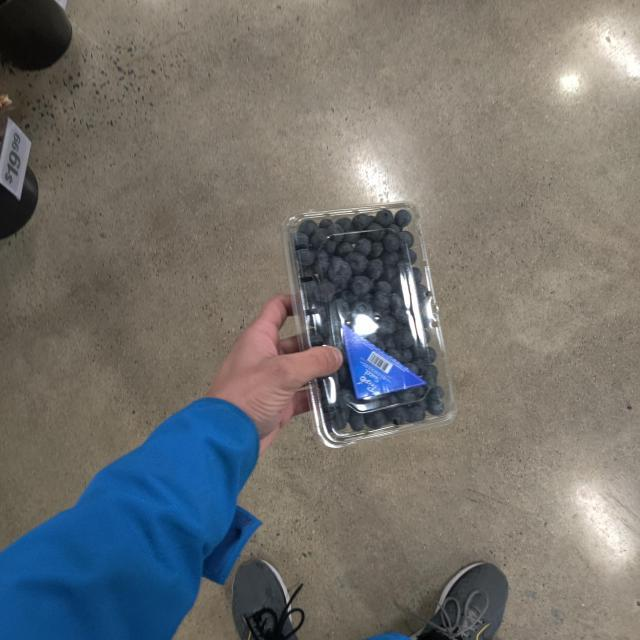Blueberries: (276, 188, 470, 460)
